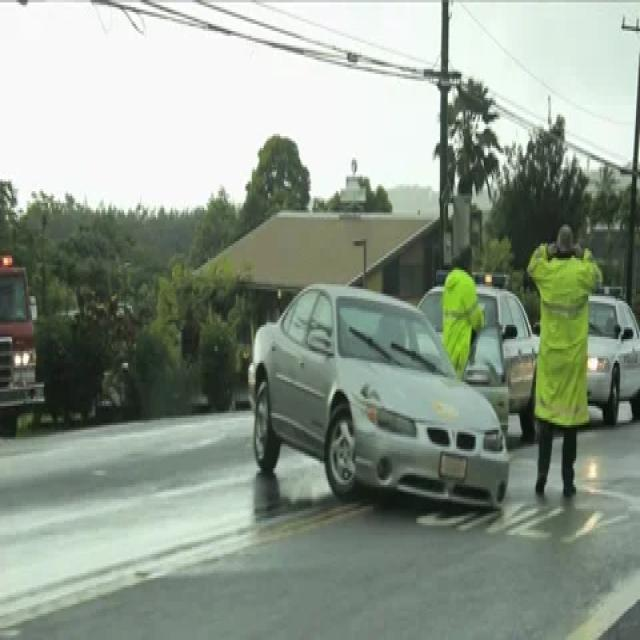Accident: (250, 276, 538, 522)
